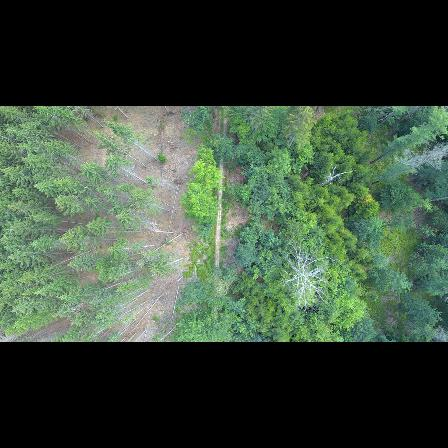Dead: (284, 241, 333, 312), (387, 143, 448, 172), (316, 164, 358, 186)
